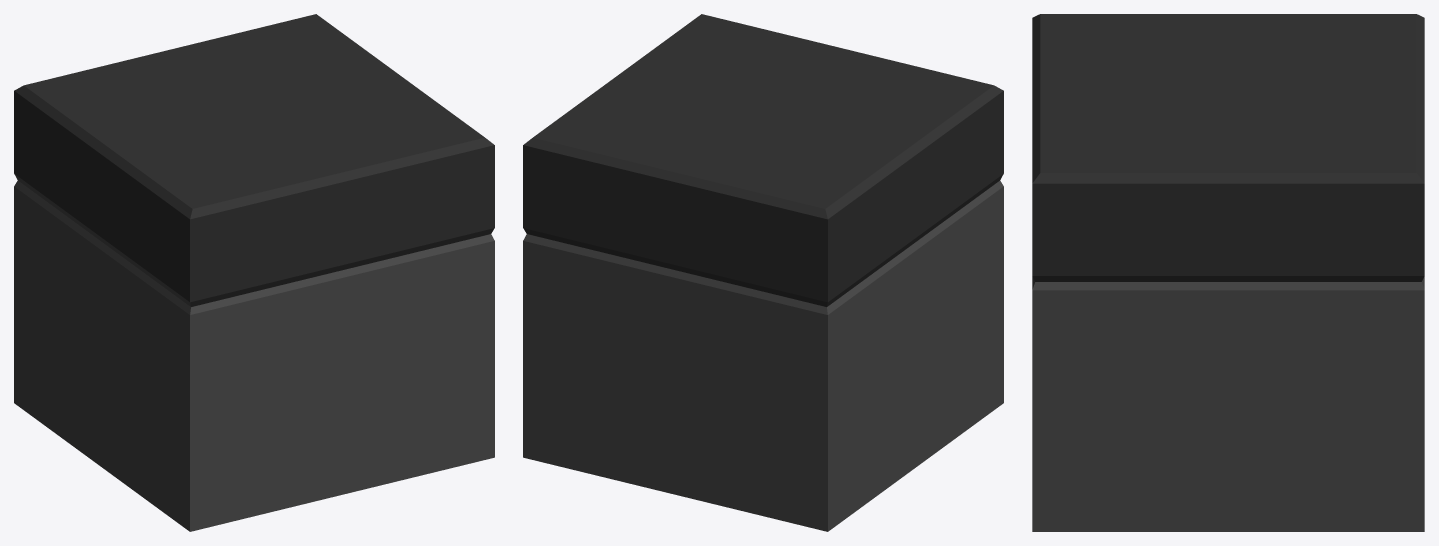
The model's file is Floor01.fbx.
3 views of the same model, side by side, from view 1: azimuth 30°, elevation 25°; view 2: azimuth 150°, elevation 25°; view 3: azimuth 270°, elevation 25° (orthographic). The views are drawn at different scales.
Visible parts, largest first — view 1: Floor01__77_; view 2: Floor01__77_; view 3: Floor01__77_.
Part boxes in pixels (box(x1,y1,x2,y2)): Floor01__77_: box(14, 14, 494, 531); Floor01__77_: box(523, 14, 1003, 531); Floor01__77_: box(1032, 14, 1424, 531).
Bounding box in the file's own units: 200 × 200 × 200.
